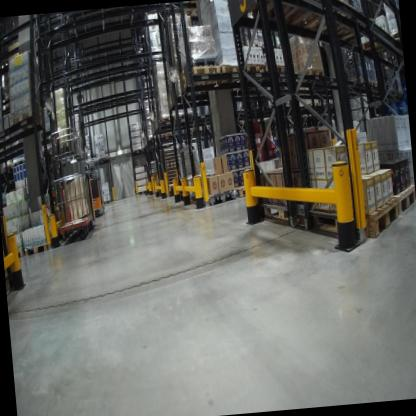pallet: (302, 188, 404, 249), (255, 190, 305, 235), (305, 0, 360, 38), (336, 9, 380, 48), (191, 184, 240, 213), (184, 60, 224, 94), (9, 107, 47, 138), (389, 179, 416, 218), (217, 59, 246, 90), (360, 33, 392, 61), (237, 61, 272, 84), (296, 63, 327, 85), (176, 1, 206, 21), (269, 59, 297, 78), (24, 236, 51, 255), (236, 180, 259, 199), (57, 138, 73, 156), (389, 29, 402, 49), (178, 111, 199, 123), (166, 182, 185, 194), (14, 244, 28, 260), (12, 157, 29, 170), (161, 112, 179, 124), (95, 152, 109, 164), (1, 163, 15, 175), (320, 99, 335, 110), (157, 129, 175, 138), (360, 74, 370, 89), (305, 99, 320, 108), (238, 116, 249, 126), (131, 146, 142, 156), (136, 190, 149, 198), (367, 77, 375, 88), (102, 197, 112, 205), (397, 86, 404, 95), (302, 112, 312, 118)
pallet_truck: (42, 117, 102, 245), (79, 148, 112, 225)
